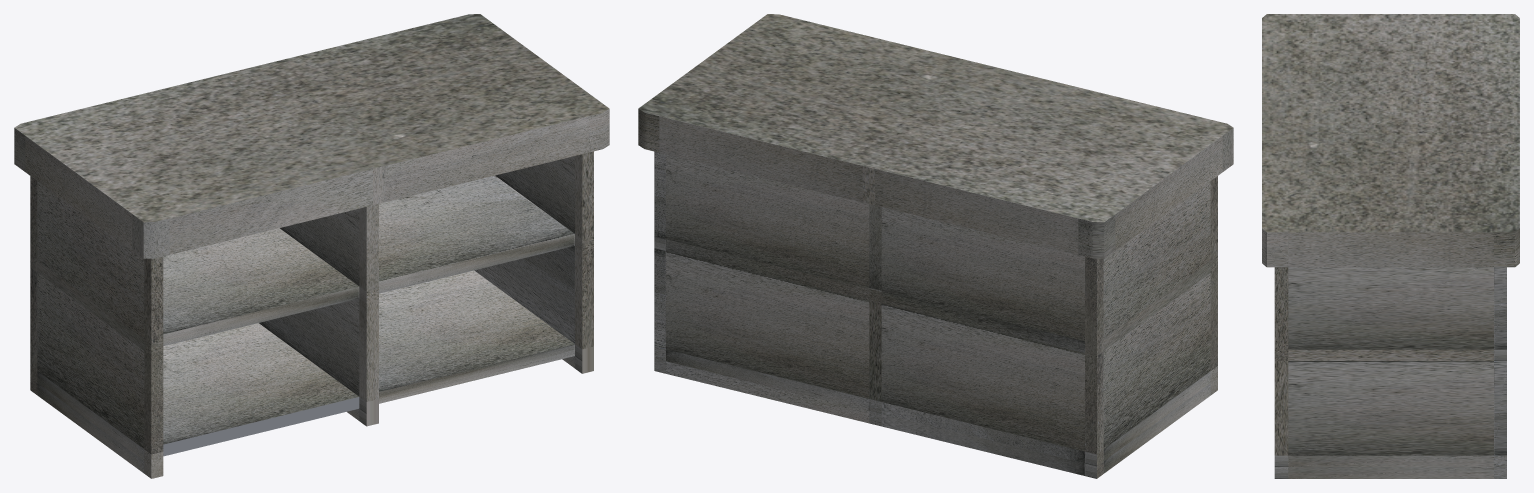
File: MesaModel.fbx
3 renders of one model, left to right at view 1: azimuth 30°, elevation 25°; view 2: azimuth 150°, elevation 25°; view 3: azimuth 270°, elevation 25°, orthographic. The views are drawn at different scales.
Parts seen in each view (by area): view 1: MesaShida; view 2: MesaShida; view 3: MesaShida.
Boxes of the visible parts, <box> form: MesaShida: <box>14,14,609,478</box>; MesaShida: <box>638,14,1233,478</box>; MesaShida: <box>1262,14,1519,478</box>.
Size of the model in its own units: 801 by 431 by 400.
